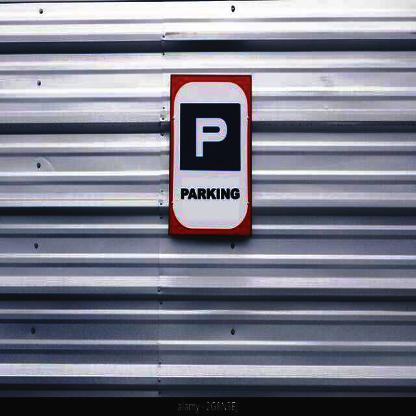Parking: (175, 98, 243, 174)
